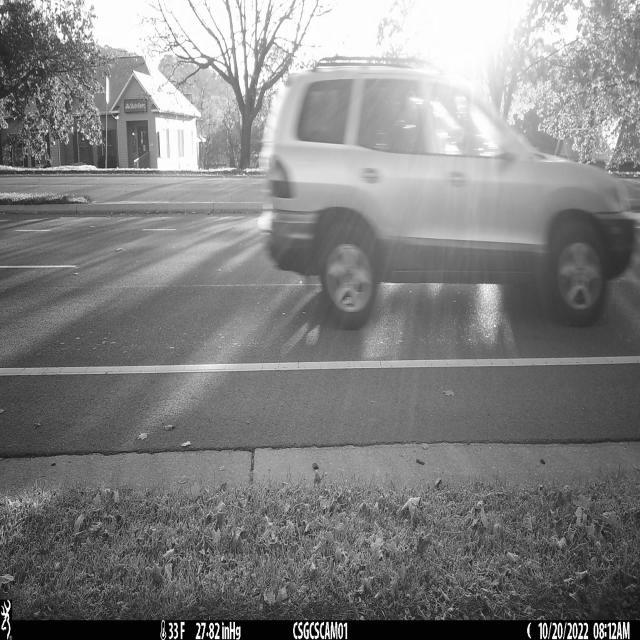SUV: (261, 53, 639, 331)
